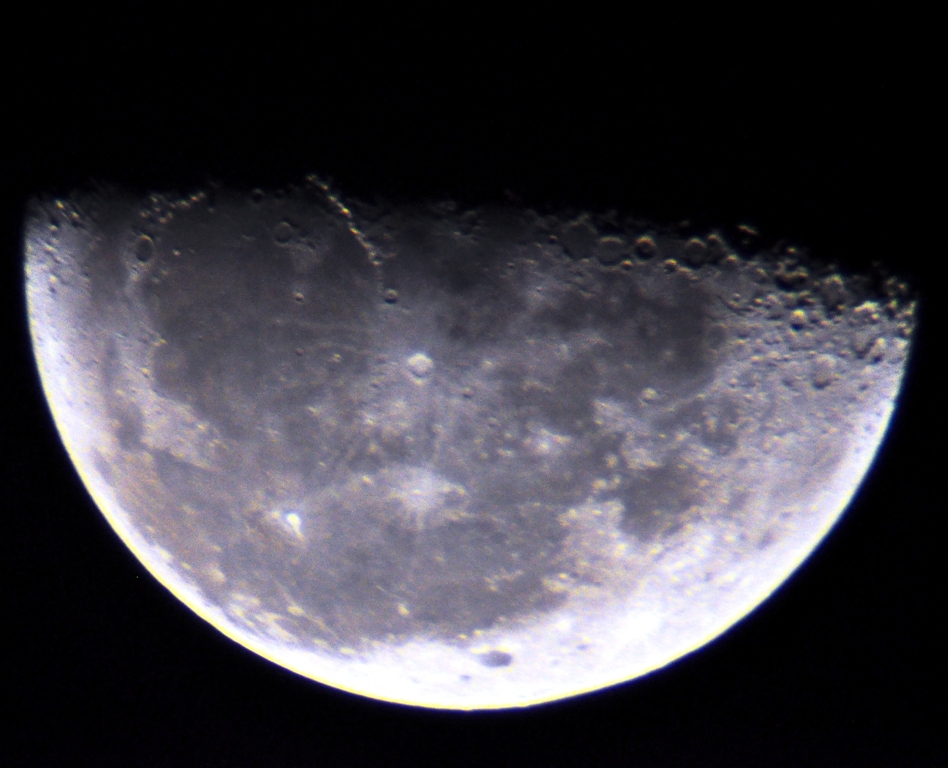crater: (381, 333, 464, 410), (381, 467, 448, 523), (111, 227, 175, 279), (260, 493, 315, 545), (621, 369, 672, 421), (469, 633, 523, 678), (268, 278, 332, 315), (367, 275, 413, 321), (265, 213, 302, 258)
